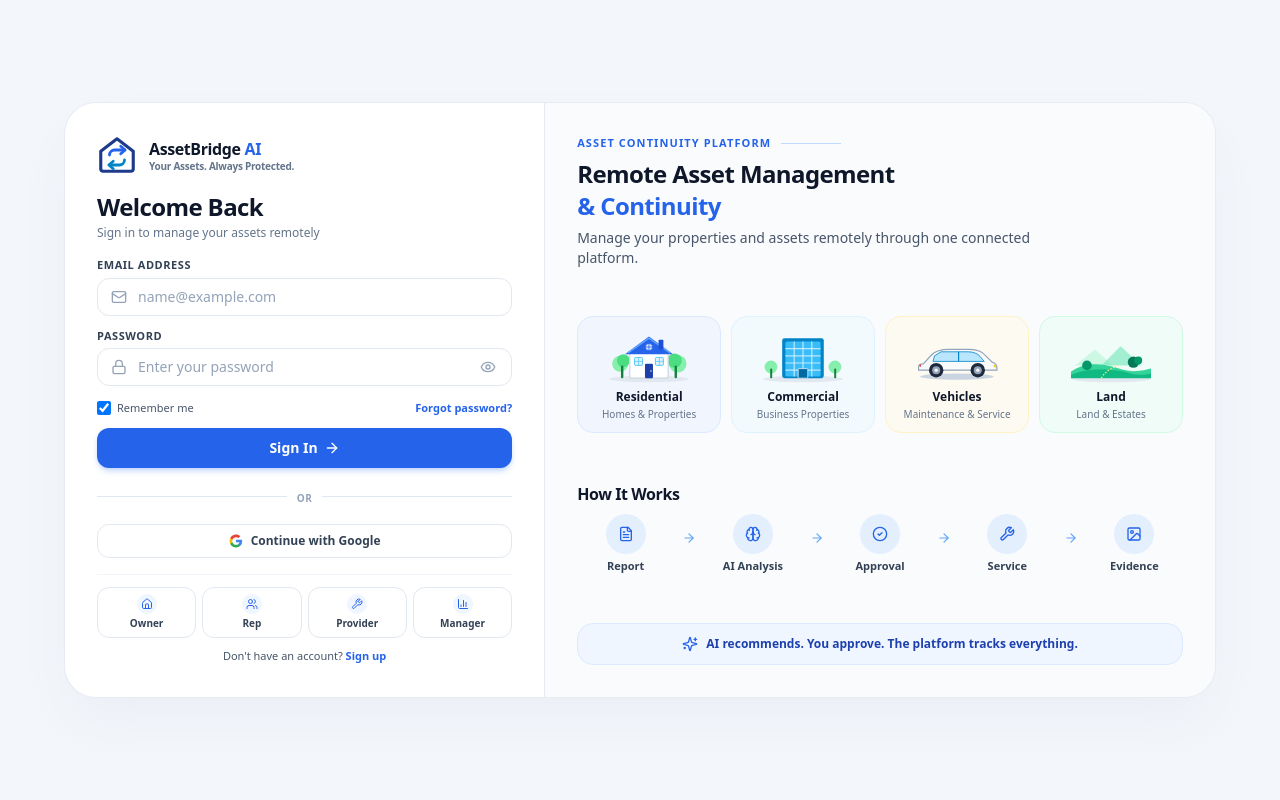
Test: LoginPage Component › displays backend error message when authentication fails
Type "wrong@example.com" into the field with placeholder "name@example.com" at (305, 297), box x1=97 y1=278 x2=512 y2=316
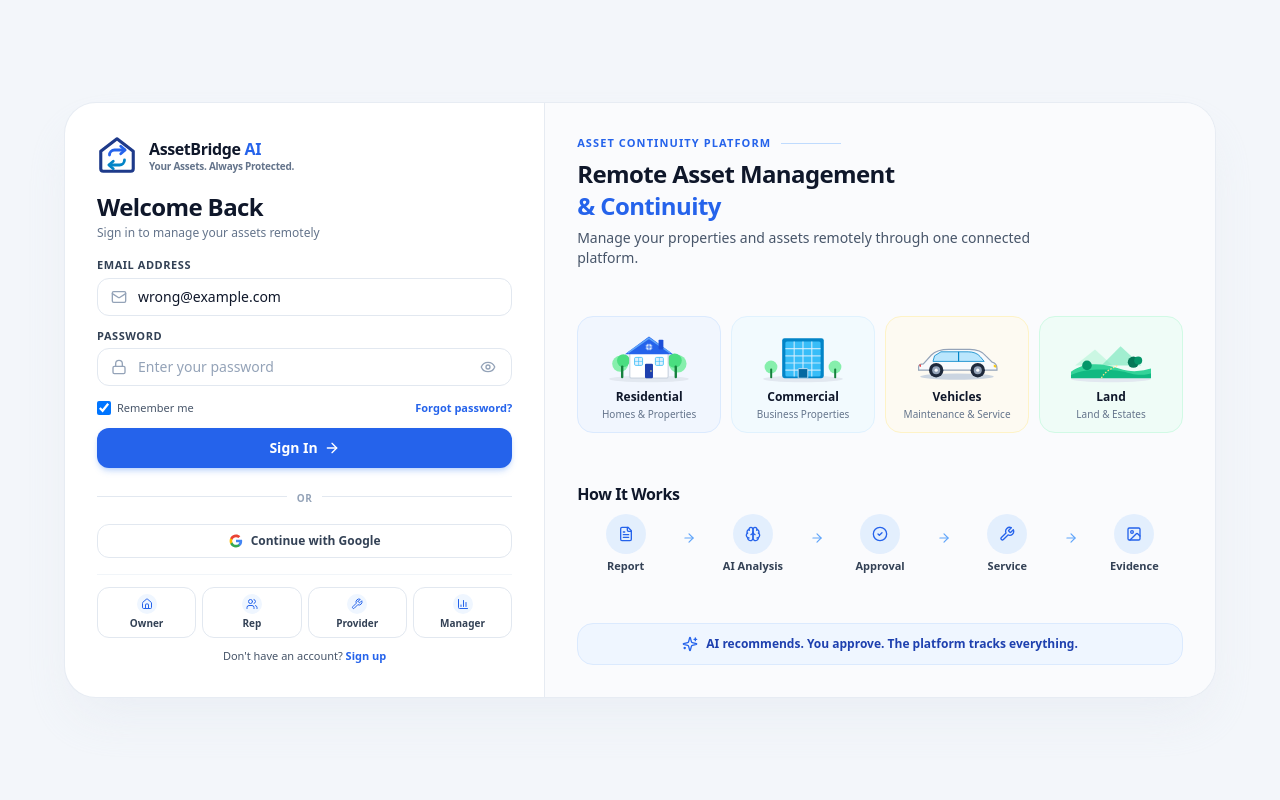
Type "WrongPass" into the password field with placeholder "Enter your password" at (305, 367), box x1=97 y1=348 x2=512 y2=386
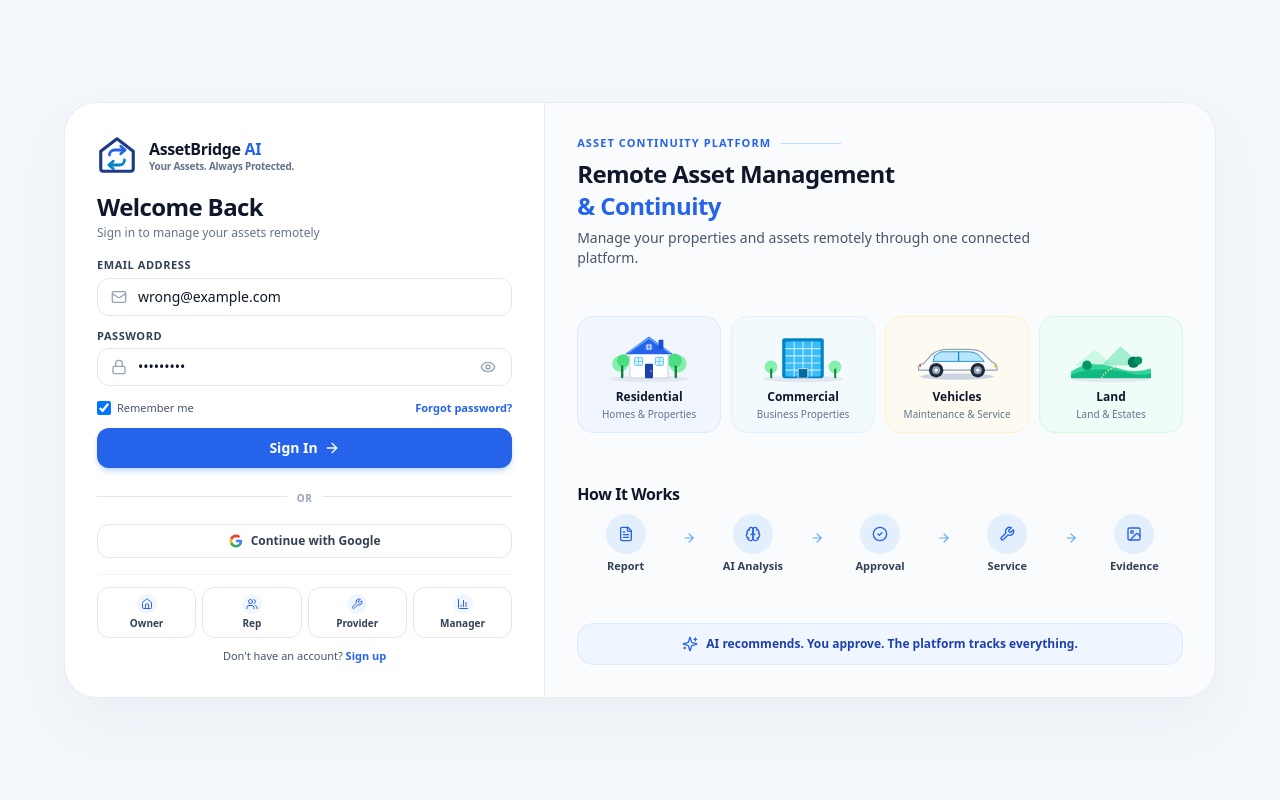
Click the button "Sign In" at (305, 448), box x1=97 y1=428 x2=512 y2=468
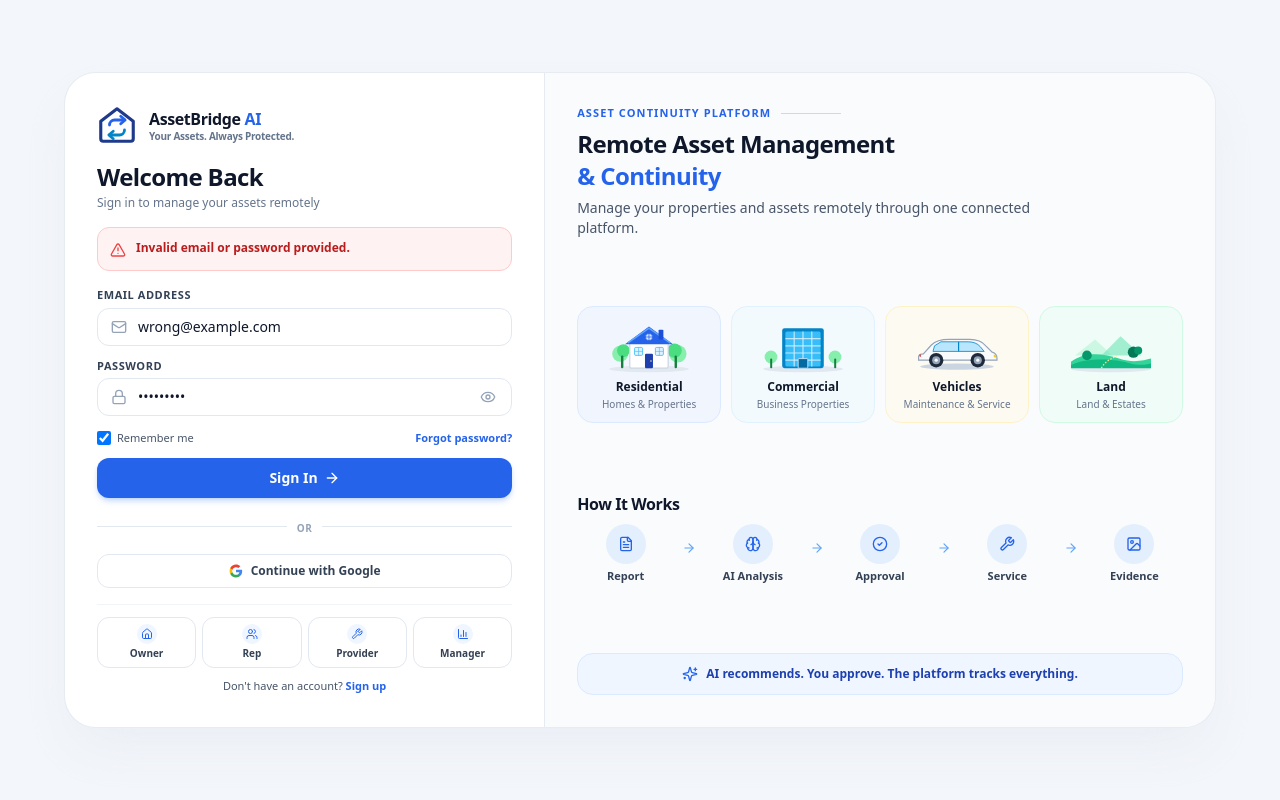
Result: the text "Invalid email or password provided." is shown at x1=136 y1=240 x2=350 y2=256
